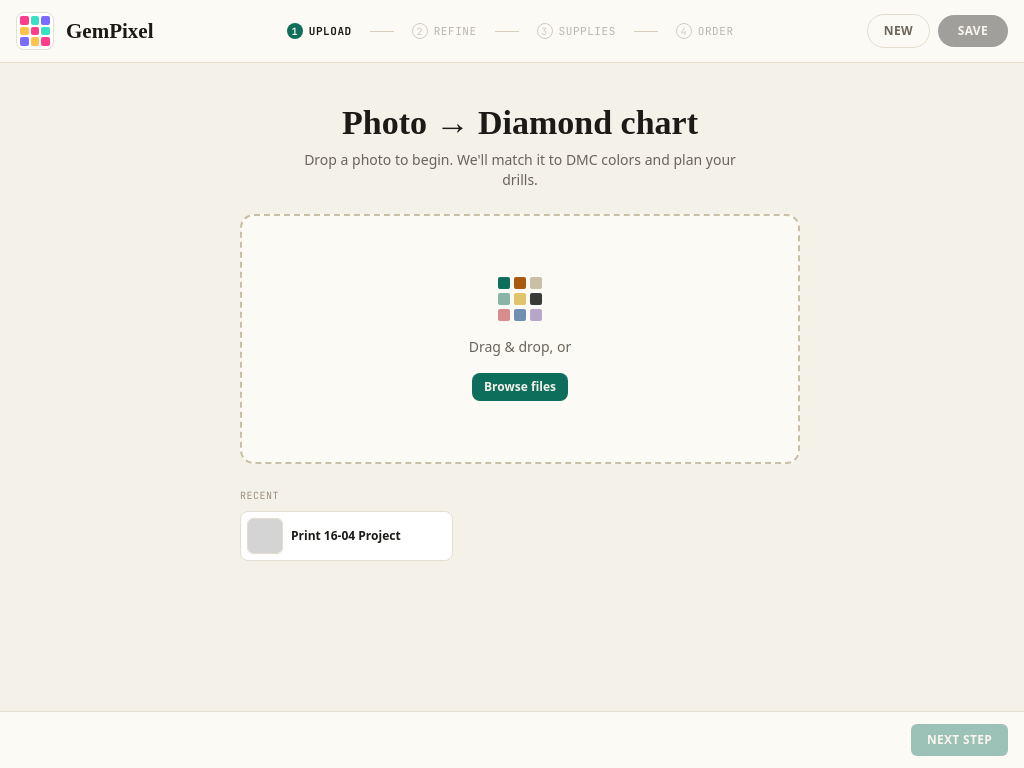
Populated supply report + relocated "Why these bags?" expander › exposes the native "Why these bags?" disclosure in the Supplies panel
The width and height of the screenshot is (1024, 768).
Click the button "Print 16-04 Project".
click(324, 536)  # box [247,518,401,554]
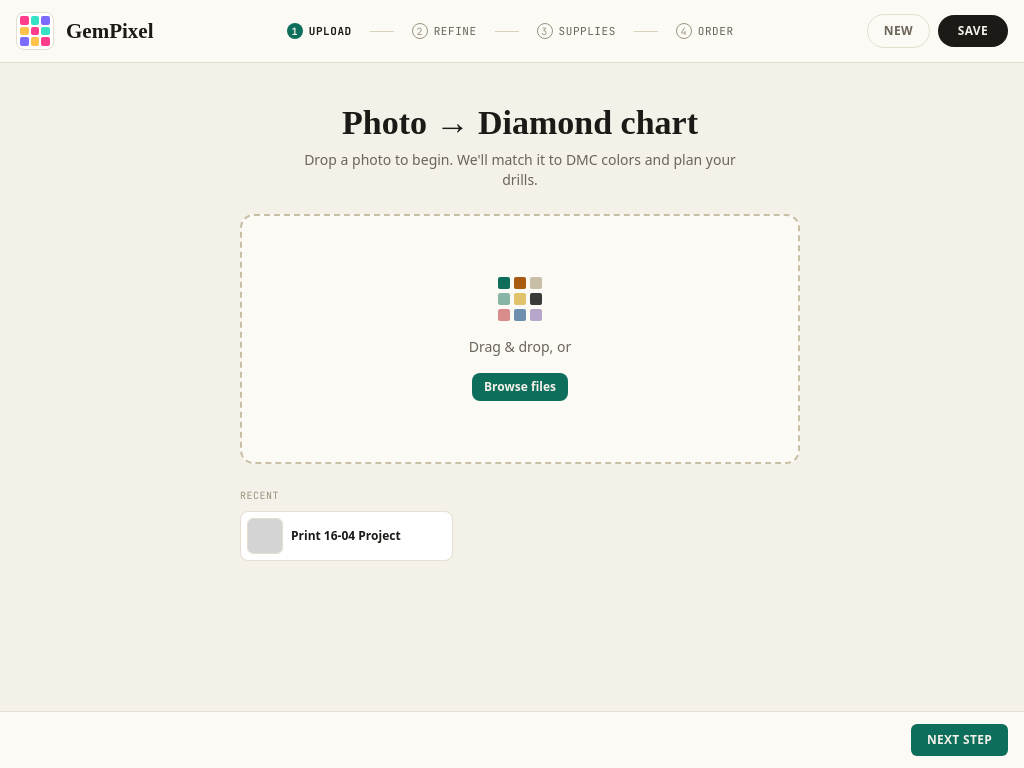
Click the button with id "wizard-next-btn".
click(959, 740)  # box [911,724,1008,756]
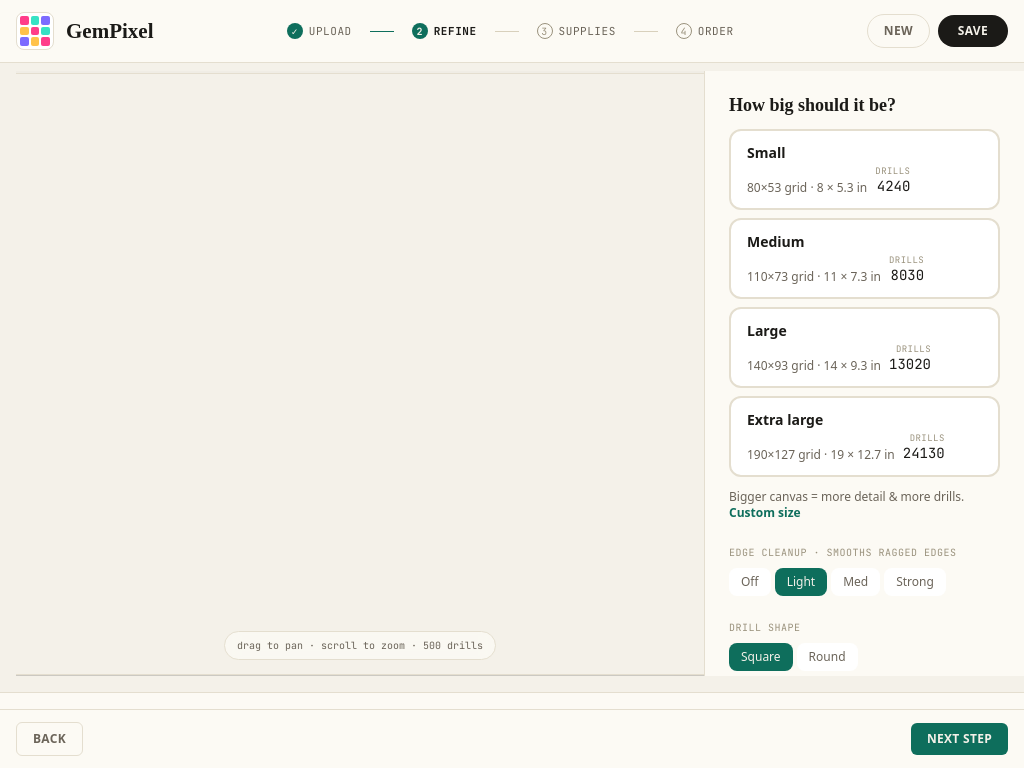
Click the button with id "wizard-next-btn".
click(959, 739)  # box [911,723,1008,755]
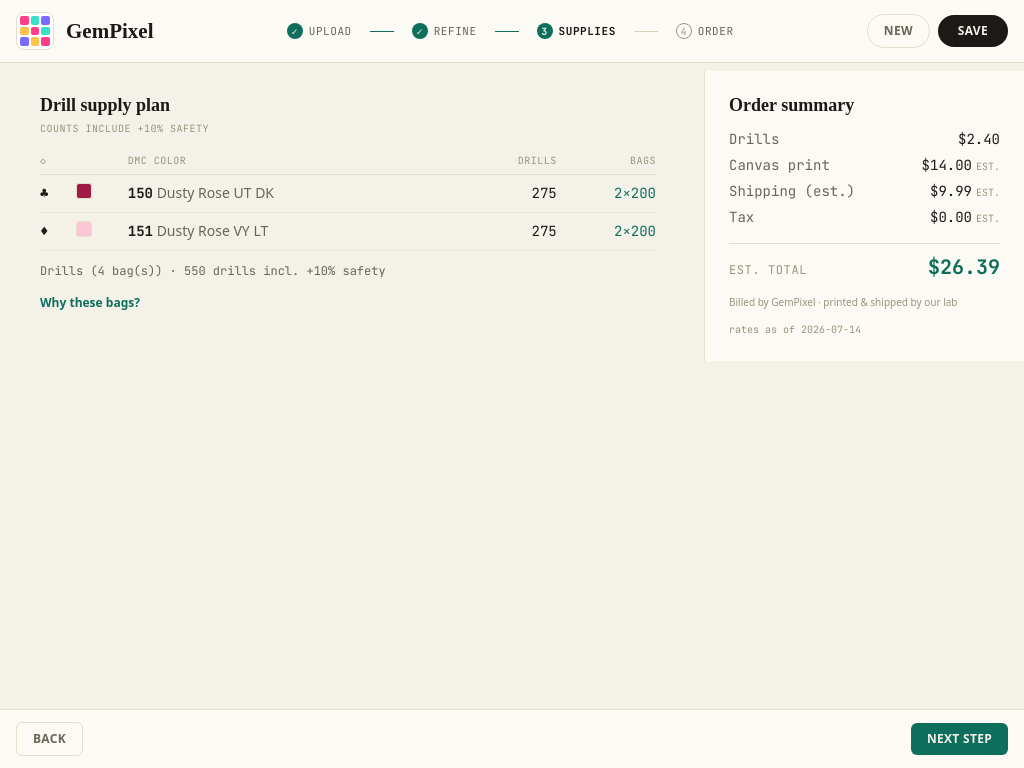
Expected: the element that starts with "Drill supply plan" is shown, [16,71,1023,361]
Expected: the heading "Why these bags?" is shown, [40,294,140,311]
